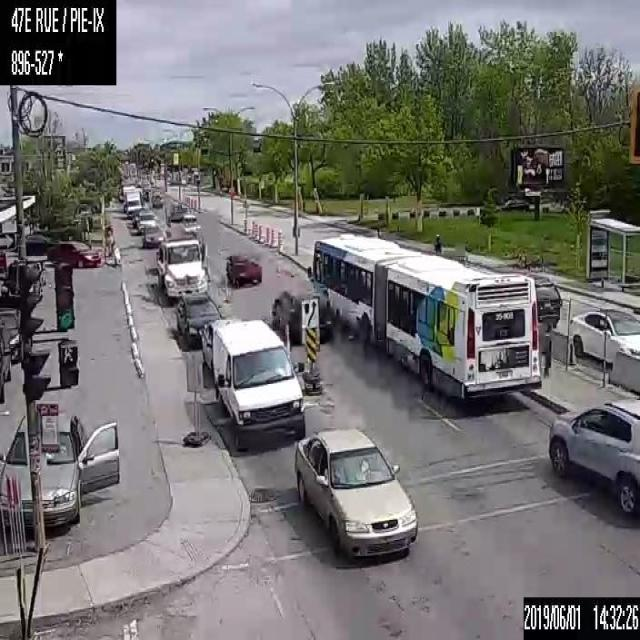bus: (309, 234, 538, 401)
construction: (284, 324, 290, 351), (223, 274, 228, 302), (277, 230, 283, 249), (265, 226, 271, 243), (270, 227, 275, 245), (258, 224, 262, 240), (253, 223, 257, 239)
pedestrian: (542, 319, 552, 377), (433, 231, 442, 253)
vehicle: (294, 422, 416, 560), (0, 414, 119, 530), (213, 316, 305, 448), (546, 393, 639, 518), (567, 306, 639, 366), (157, 238, 210, 300), (272, 290, 332, 343), (175, 290, 223, 350), (0, 259, 41, 314), (525, 271, 562, 326), (48, 240, 101, 270), (224, 252, 262, 288), (0, 307, 20, 360), (0, 324, 12, 404), (198, 320, 213, 374), (14, 233, 48, 254), (142, 222, 166, 246), (25, 258, 45, 286), (124, 188, 143, 216), (134, 211, 158, 232), (132, 206, 154, 225), (181, 214, 199, 236), (150, 188, 162, 206)
